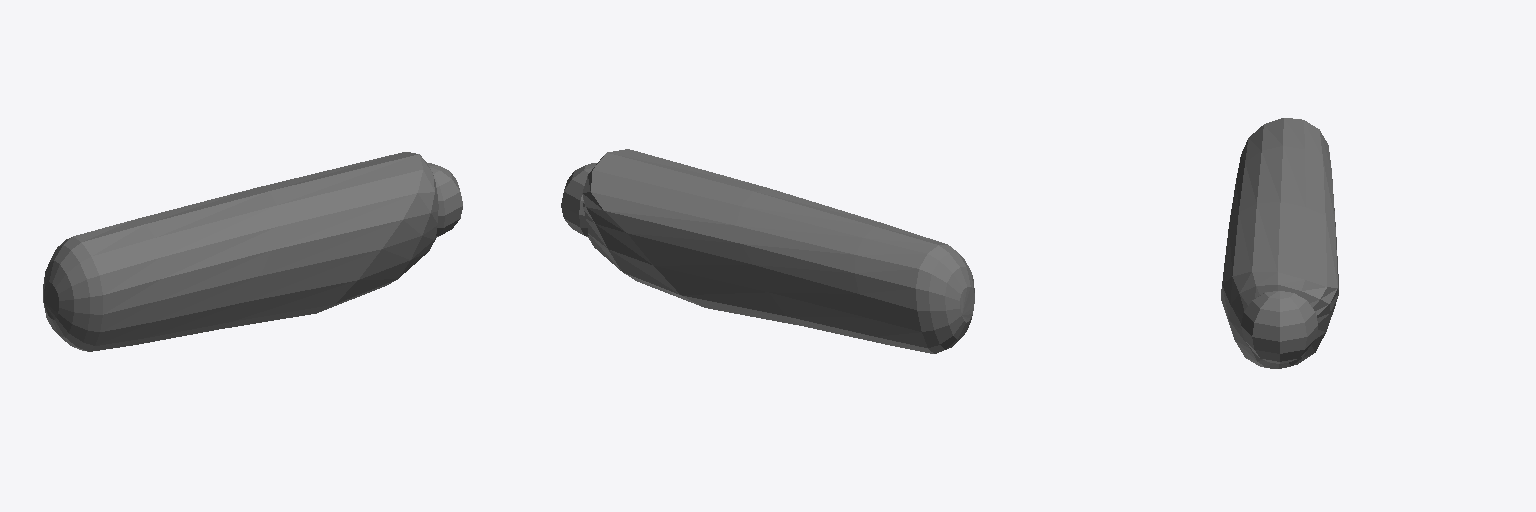
File: 04_armDW_R.obj
The picture shows the model from 3 angles: view 1: azimuth 30°, elevation 25°; view 2: azimuth 150°, elevation 25°; view 3: azimuth 270°, elevation 25°; orthographic projection.
Parts seen in each view (by area): view 1: armDW_R; view 2: armDW_R; view 3: armDW_R.
Part boxes in pixels (x1,y1,x2,y2): armDW_R: (43, 152, 462, 351); armDW_R: (561, 149, 974, 353); armDW_R: (1221, 118, 1338, 368).
Bounding box in the file's own units: 1.61 × 0.4783 × 0.409.